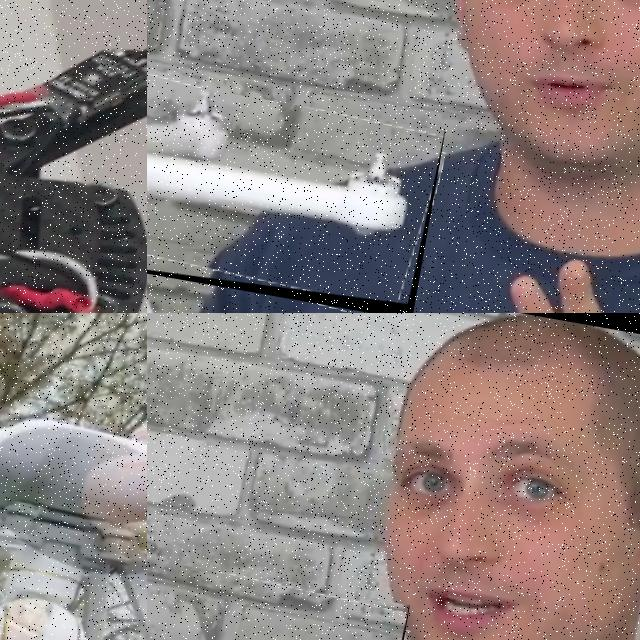drone: (147, 70, 444, 313), (0, 313, 147, 640), (0, 0, 147, 313), (147, 538, 409, 640)
